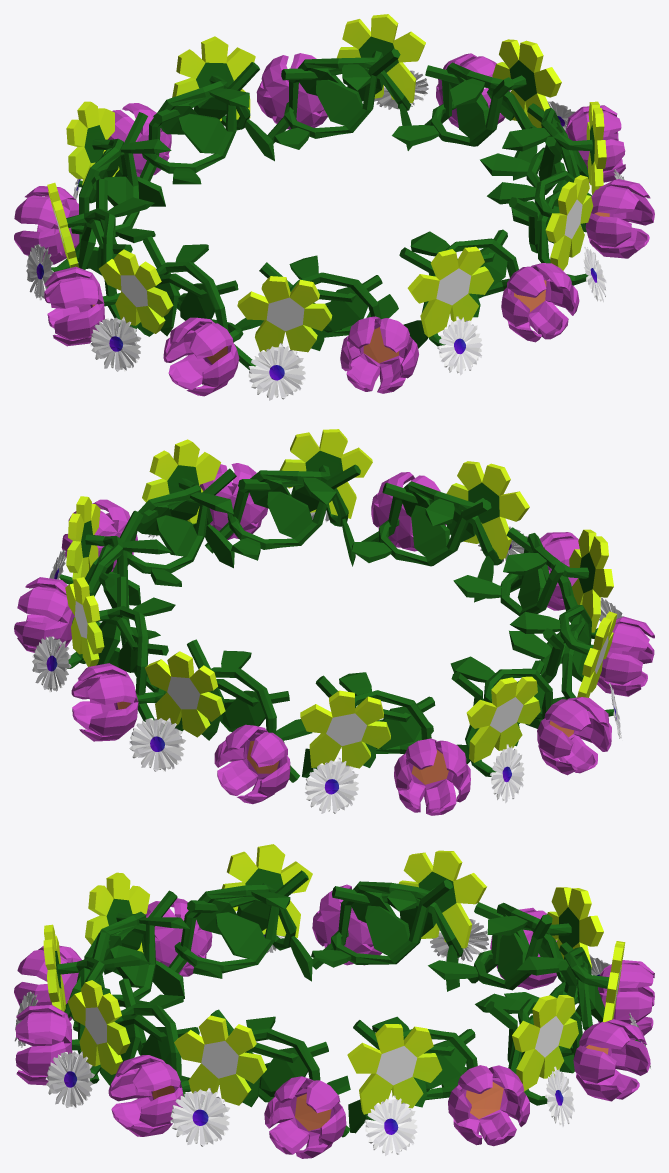
File: FLOWER CROWN.fbx
3 views of the same model, one above another, from view 1: azimuth 30°, elevation 25°; view 2: azimuth 150°, elevation 25°; view 3: azimuth 270°, elevation 25° (orthographic). The views are drawn at different scales.
Parts seen in each view (by area): view 1: FLOWER_CROWN; view 2: FLOWER_CROWN; view 3: FLOWER_CROWN.
Boxes of the visible parts, x1=… form: FLOWER_CROWN: x1=14, y1=14, x2=654, y2=400; FLOWER_CROWN: x1=14, y1=429, x2=654, y2=815; FLOWER_CROWN: x1=14, y1=844, x2=654, y2=1158.
Bounding box in the file's own units: 30.35 × 8.87 × 29.14.
